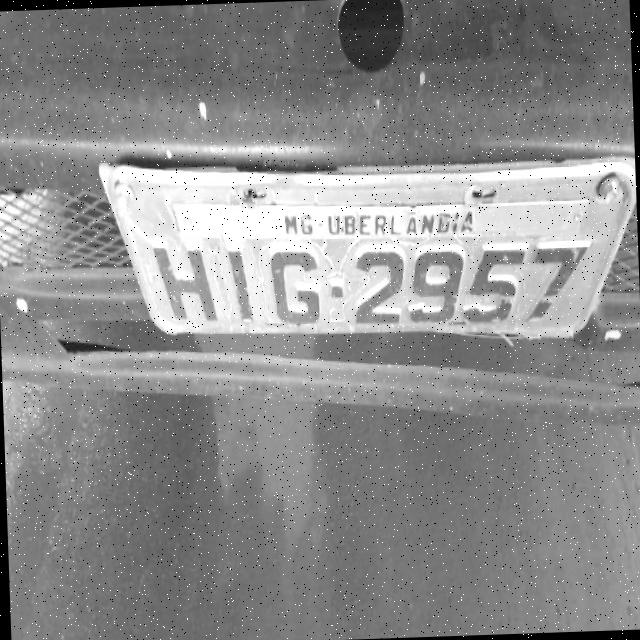placa_antiga: (108, 163, 630, 341)
